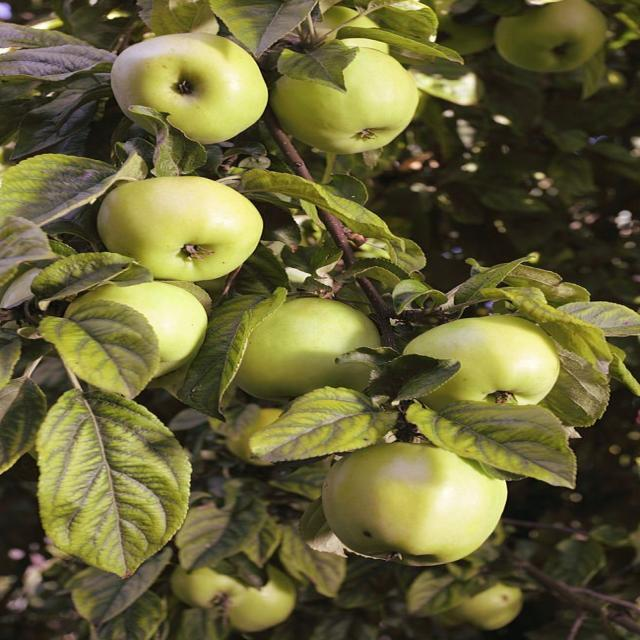Green Apple: (338, 436, 495, 562), (108, 33, 272, 136), (108, 175, 265, 276), (407, 327, 572, 422), (295, 51, 429, 153), (249, 306, 385, 400), (82, 271, 213, 362), (193, 569, 304, 633), (509, 7, 611, 69), (421, 569, 515, 636), (226, 412, 287, 458)
